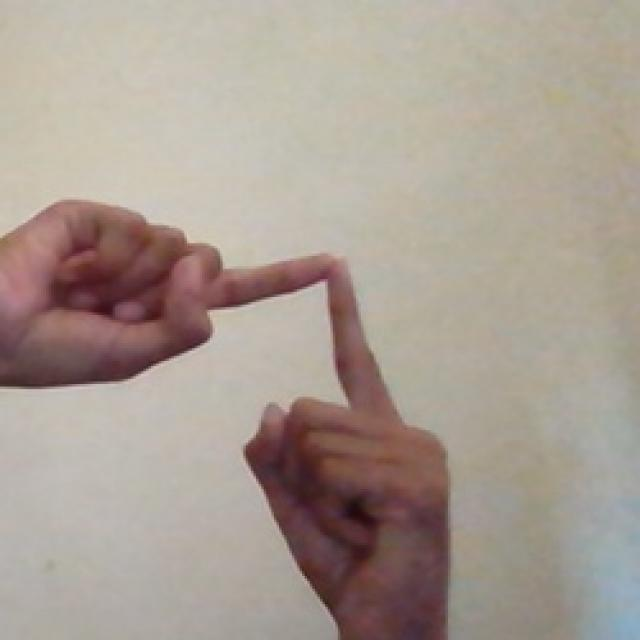Alphabet-E: (1, 202, 448, 640)
